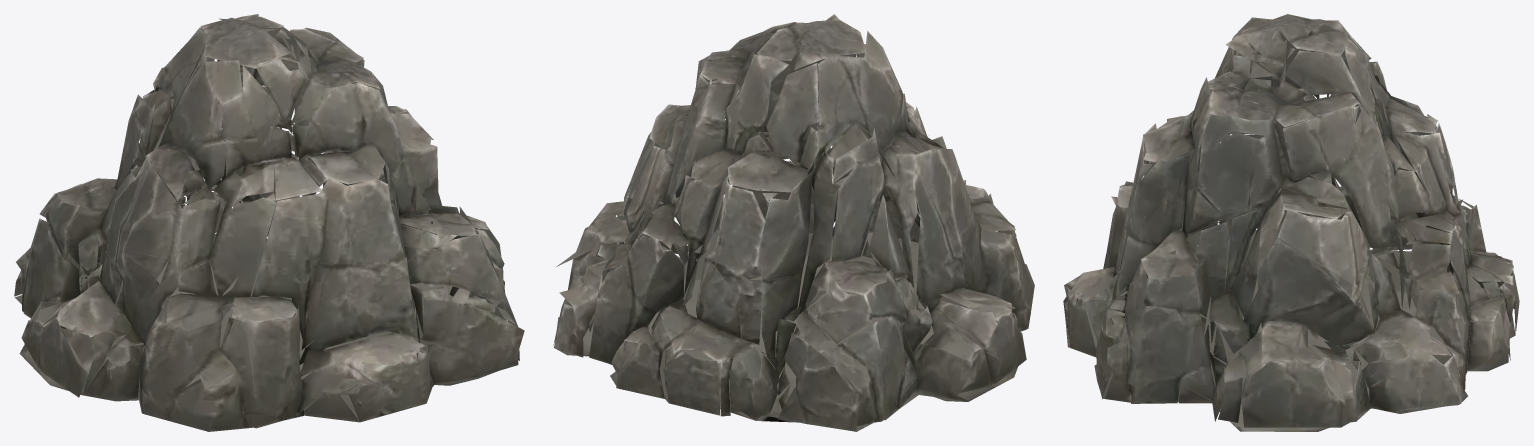
Rendered from pile-b.glb.
The picture shows the model from 3 angles, left to right: view 1: azimuth 30°, elevation 25°; view 2: azimuth 150°, elevation 25°; view 3: azimuth 270°, elevation 25°; orthographic projection. The views are drawn at different scales.
Visible parts, largest first — view 1: Mesh1.0; view 2: Mesh1.0; view 3: Mesh1.0.
Part boxes in pixels (x1=…): Mesh1.0: x1=14, y1=14, x2=524, y2=431; Mesh1.0: x1=553, y1=14, x2=1034, y2=431; Mesh1.0: x1=1063, y1=14, x2=1519, y2=431.
Size of the model in its own units: 2.02 by 1.37 by 1.89.
Materials: 1 (1 with a texture image).
